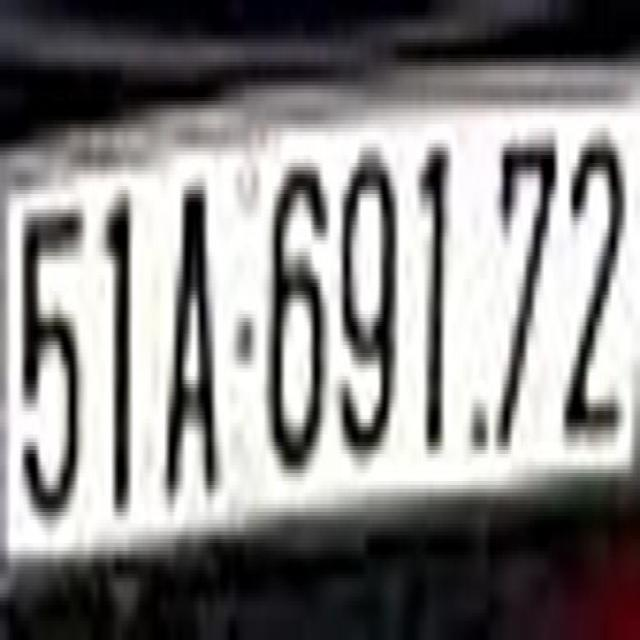1: (106, 182, 138, 520), (417, 136, 450, 450)
2: (564, 120, 624, 427)
5: (21, 190, 82, 535)
6: (266, 128, 326, 481)
7: (488, 120, 560, 438)
9: (340, 151, 400, 458)
A: (161, 182, 215, 493)
